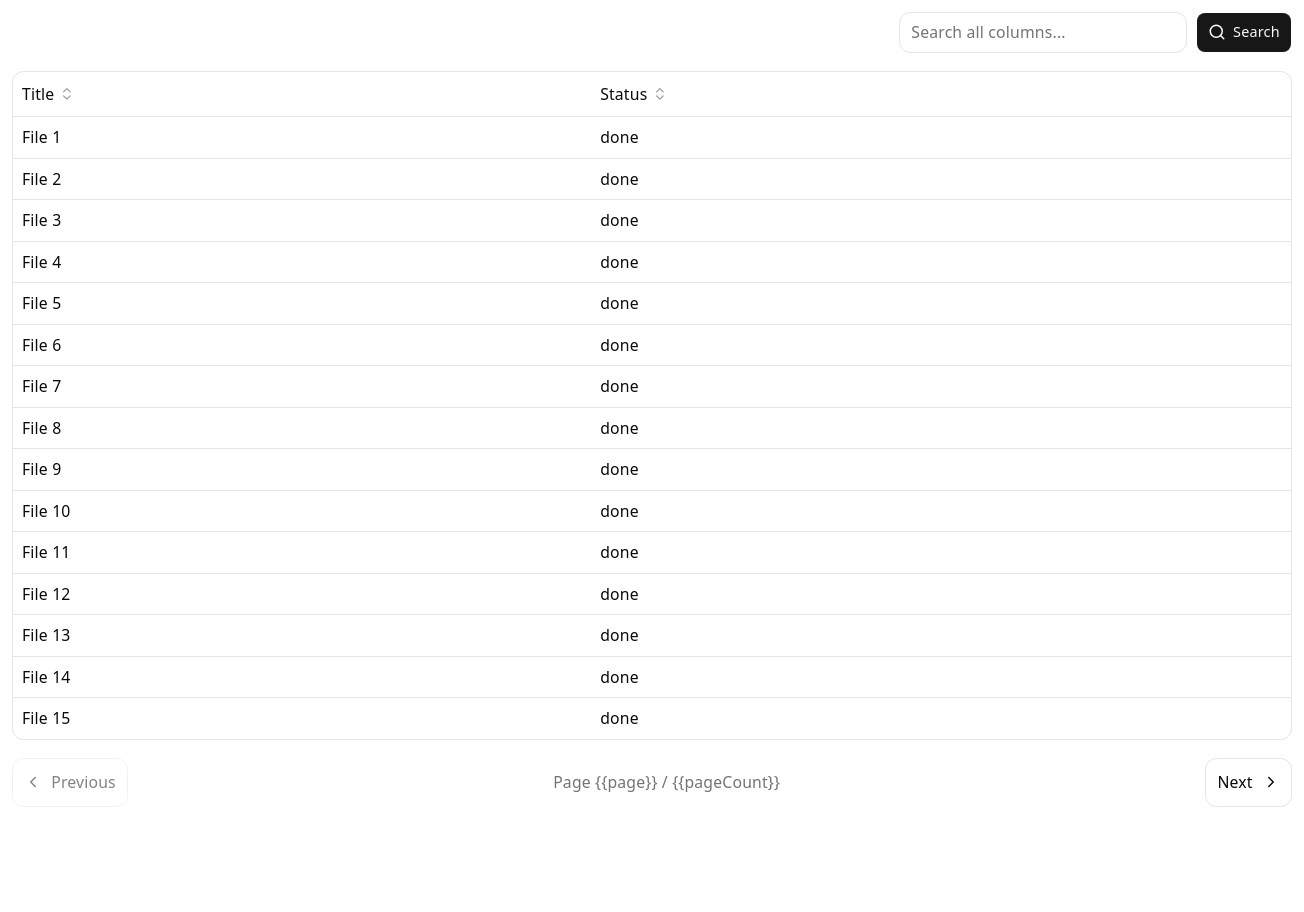
Scenario: DataTable › paginates when clicking Next and Previous
expect the text "File 1" is shown: met, box [13, 116, 591, 158]
Click the button "Next" at (1249, 782), box [1205, 758, 1292, 807]
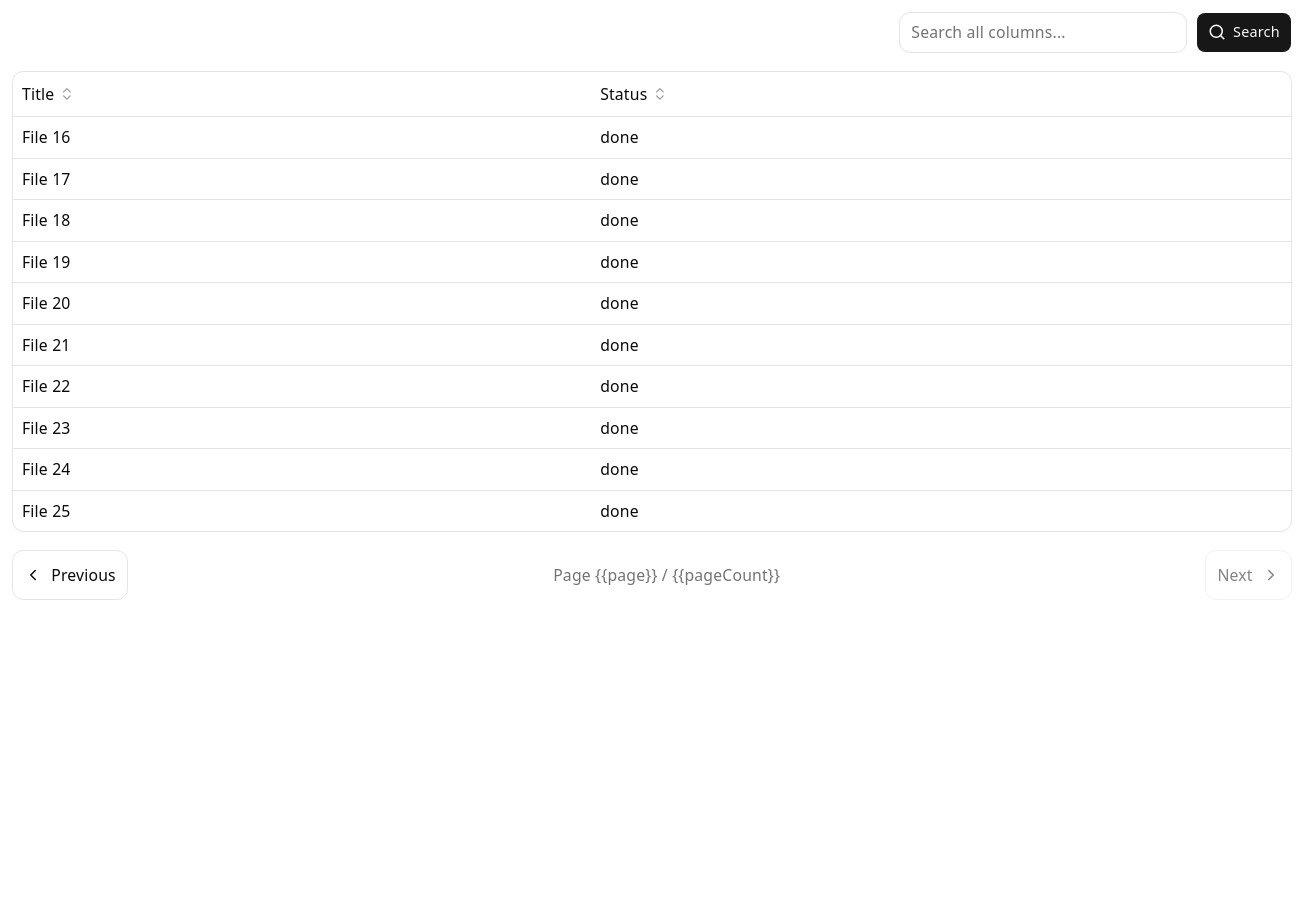
expect the text "File 16" is shown: met, box [13, 116, 591, 158]
